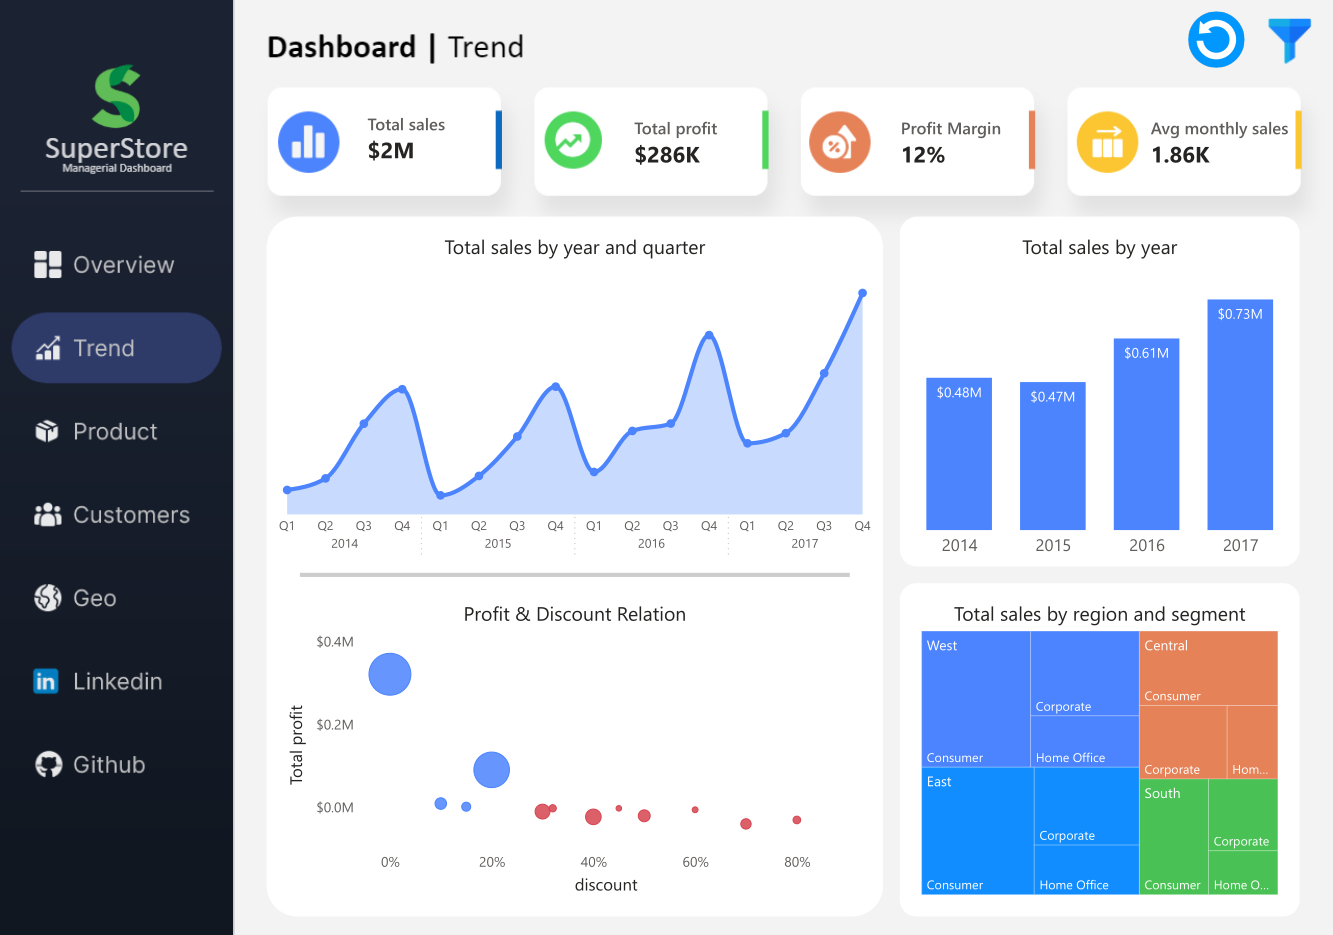

Layout of this report page (visuals, bound fields, positions):
{"tool":"powerbi","page":{"name":"Trend","canvas":[1280,900],"ordinal":1},"visuals":[{"type":"actionButton","title":"Filter swicth_off","box":[1192,0,88,72],"z":1000,"group":"g1"},{"type":"shape","box":[864,560,384,320],"z":1000},{"type":"shape","box":[864,208,384,336],"z":2000},{"type":"shape","box":[272,512,560,48],"z":3000},{"type":"shape","box":[256,208,592,672],"z":4000},{"type":"cardVisual","fields":{"Data":["Measure_table.Total sales"]},"box":[336,72,120,120],"z":5000},{"type":"cardVisual","fields":{"Data":["Measure_table.Total profit"]},"box":[592,80,128,112],"z":6000},{"type":"cardVisual","fields":{"Data":["Measure_table.Profit Margin"]},"box":[848,80,144,112],"z":7000},{"type":"lineChart","fields":{"Y":["Measure_table.Total sales"],"Category":["calender_Table.year","calender_Table.quarter"]},"box":[256,224,592,320],"z":9000},{"type":"scatterChart","title":"Profit & Discount Relation","fields":{"Y":["Measure_table.Total profit"],"X":["gold f_orders.discount"],"Size":["Measure_table.Total sales"]},"box":[272,576,560,288],"z":10000},{"type":"treemap","fields":{"Values":["Measure_table.Total sales"],"Group":["gold d_location.region"],"Details":["gold d_customers.segment"]},"box":[880,576,352,288],"z":11000},{"type":"columnChart","fields":{"Y":["Measure_table.Total sales"],"Category":["calender_Table.year"]},"box":[880,224,352,320],"z":12000},{"type":"shape","box":[288,528,528,48],"z":13000},{"type":"cardVisual","fields":{"Data":["Measure_table.avg monthly sales"]},"box":[1088,80,192,112],"z":14000},{"type":"image","box":[0,0,224,224],"z":15000},{"type":"image","box":[1136,6,64,64],"z":16000},{"type":"group","id":"g1","title":"Filter","box":[896,0,384,900],"z":17000},{"type":"group","id":"g2","title":"Nav Buttons","box":[0,217.9,224.1,549.7],"z":17001},{"type":"actionButton","box":[0,624.8,224.1,63.3],"z":20000,"group":"g2"},{"type":"actionButton","box":[0,704.3,224.1,63.3],"z":21000,"group":"g2"},{"type":"pageNavigator","box":[0,217.9,224.1,388.6],"z":22000,"group":"g2"}]}

Visuals, with their boxes on the page's 1280x900 design canvas (x1, y1, x2, y2). These are canvas units, not pixel positions in the 1333x935 screenshot, which may show the page scaled, cropped or inside an application window:
"Filter swicth_off" actionButton: [x1=1192, y1=0, x2=1280, y2=72]
shape: [x1=864, y1=560, x2=1248, y2=880]
shape: [x1=864, y1=208, x2=1248, y2=544]
shape: [x1=272, y1=512, x2=832, y2=560]
shape: [x1=256, y1=208, x2=848, y2=880]
cardVisual - Measure_table.Total sales: [x1=336, y1=72, x2=456, y2=192]
cardVisual - Measure_table.Total profit: [x1=592, y1=80, x2=720, y2=192]
cardVisual - Measure_table.Profit Margin: [x1=848, y1=80, x2=992, y2=192]
lineChart - Measure_table.Total sales x calender_Table.year: [x1=256, y1=224, x2=848, y2=544]
"Profit & Discount Relation" scatterChart: [x1=272, y1=576, x2=832, y2=864]
treemap - Measure_table.Total sales x gold d_location.region: [x1=880, y1=576, x2=1232, y2=864]
columnChart - Measure_table.Total sales x calender_Table.year: [x1=880, y1=224, x2=1232, y2=544]
shape: [x1=288, y1=528, x2=816, y2=576]
cardVisual - Measure_table.avg monthly sales: [x1=1088, y1=80, x2=1280, y2=192]
image: [x1=0, y1=0, x2=224, y2=224]
image: [x1=1136, y1=6, x2=1200, y2=70]
"Filter" group: [x1=896, y1=0, x2=1280, y2=900]
"Nav Buttons" group: [x1=0, y1=218, x2=224, y2=768]
actionButton: [x1=0, y1=625, x2=224, y2=688]
actionButton: [x1=0, y1=704, x2=224, y2=768]
pageNavigator: [x1=0, y1=218, x2=224, y2=606]
